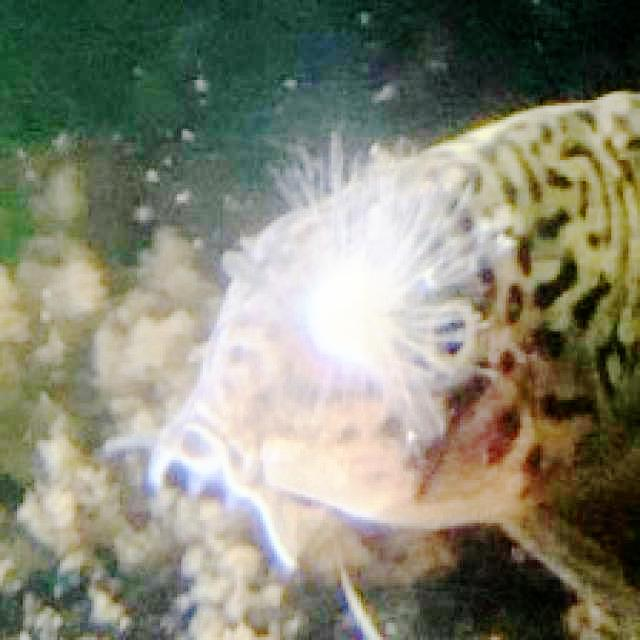Fungal Disease -Saprolegniasis-: (151, 92, 640, 582)
